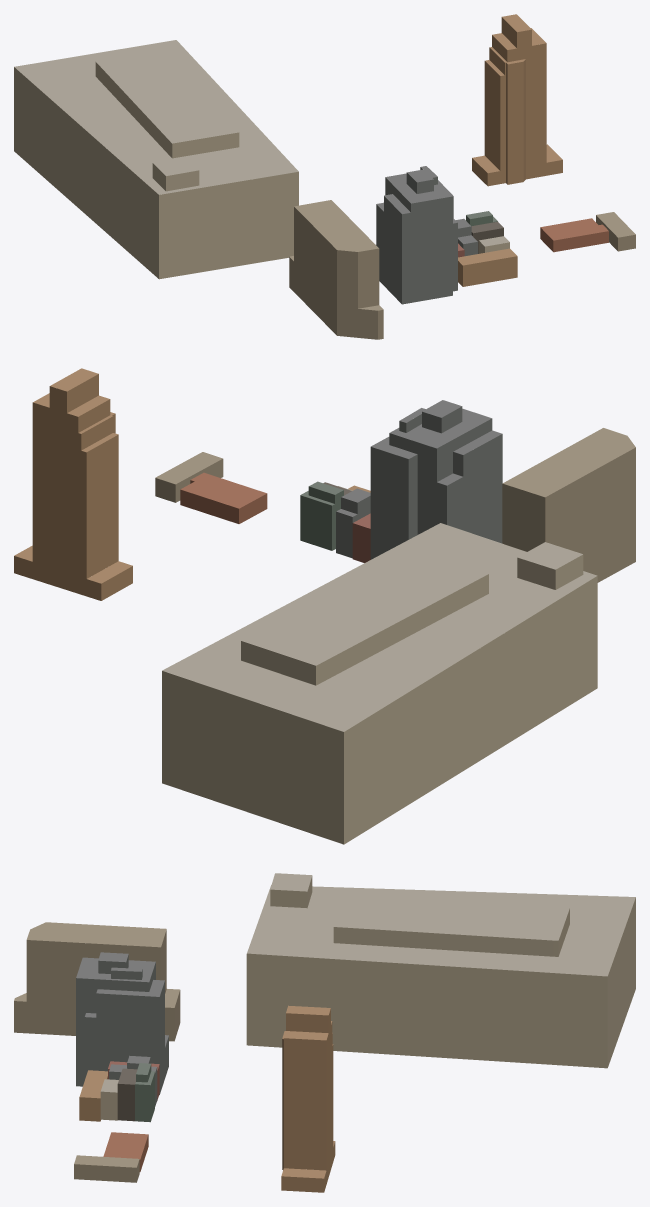
File: tile--6_2.glb
The picture shows the model from 3 angles, top to bottom: view 1: azimuth 30°, elevation 25°; view 2: azimuth 150°, elevation 25°; view 3: azimuth 270°, elevation 25°; orthographic projection. The views are drawn at different scales.
Parts seen in each view (by area): view 1: wall, roof; view 2: wall, roof; view 3: wall, roof.
Boxes of the visible parts, x1,y1,x2,y2 form: wall: (14, 17, 635, 339); roof: (14, 14, 635, 310); wall: (14, 374, 635, 844); roof: (14, 368, 635, 731); wall: (14, 876, 635, 1192); roof: (14, 873, 635, 1178).
Bounding box in the file's own units: 180 × 63.46 × 215.
